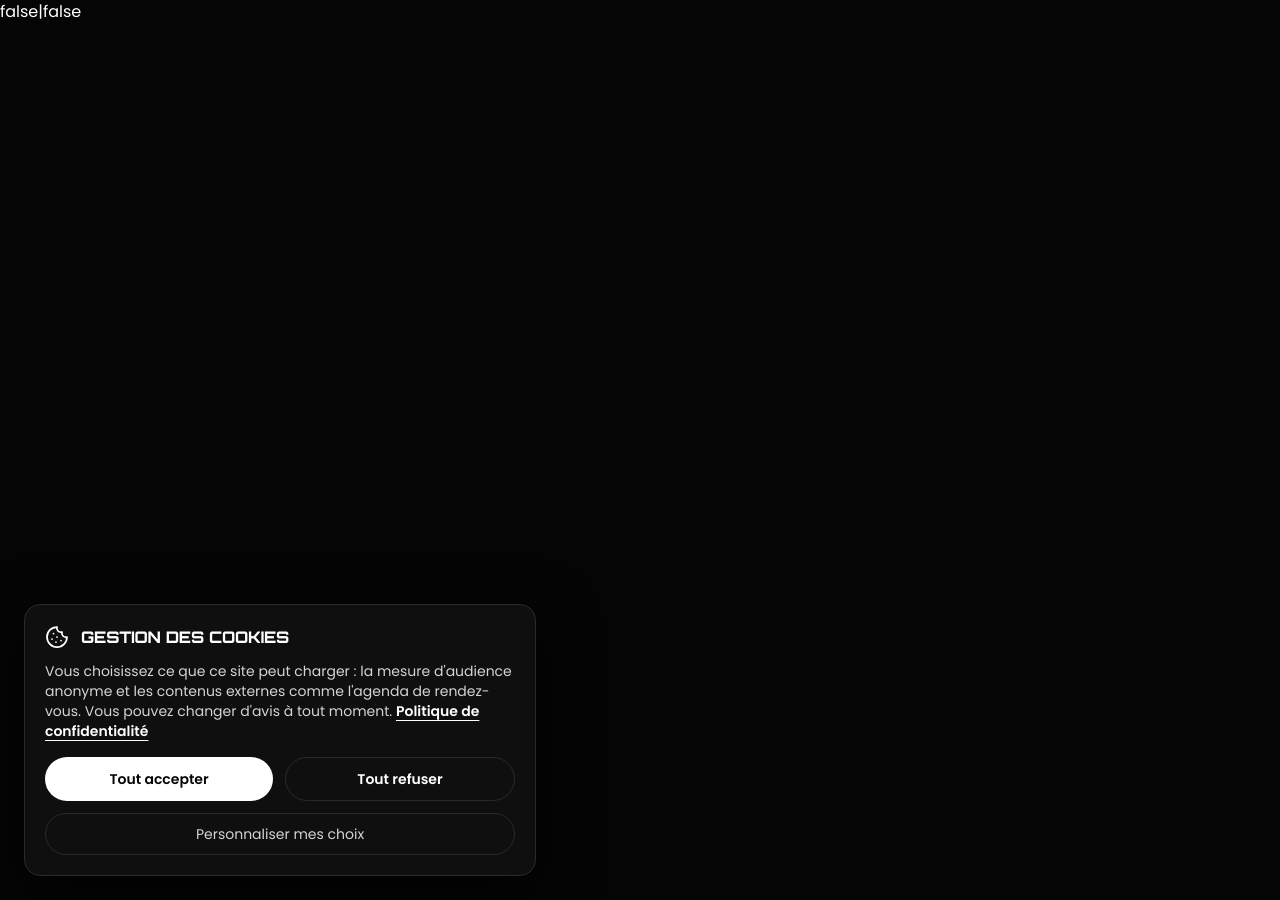
Test: CookieBanner › enables every category and disappears when accepting all
The image size is (1280, 900).
Click the button "Tout accepter". click: (159, 779)
box: [45,757,273,801]
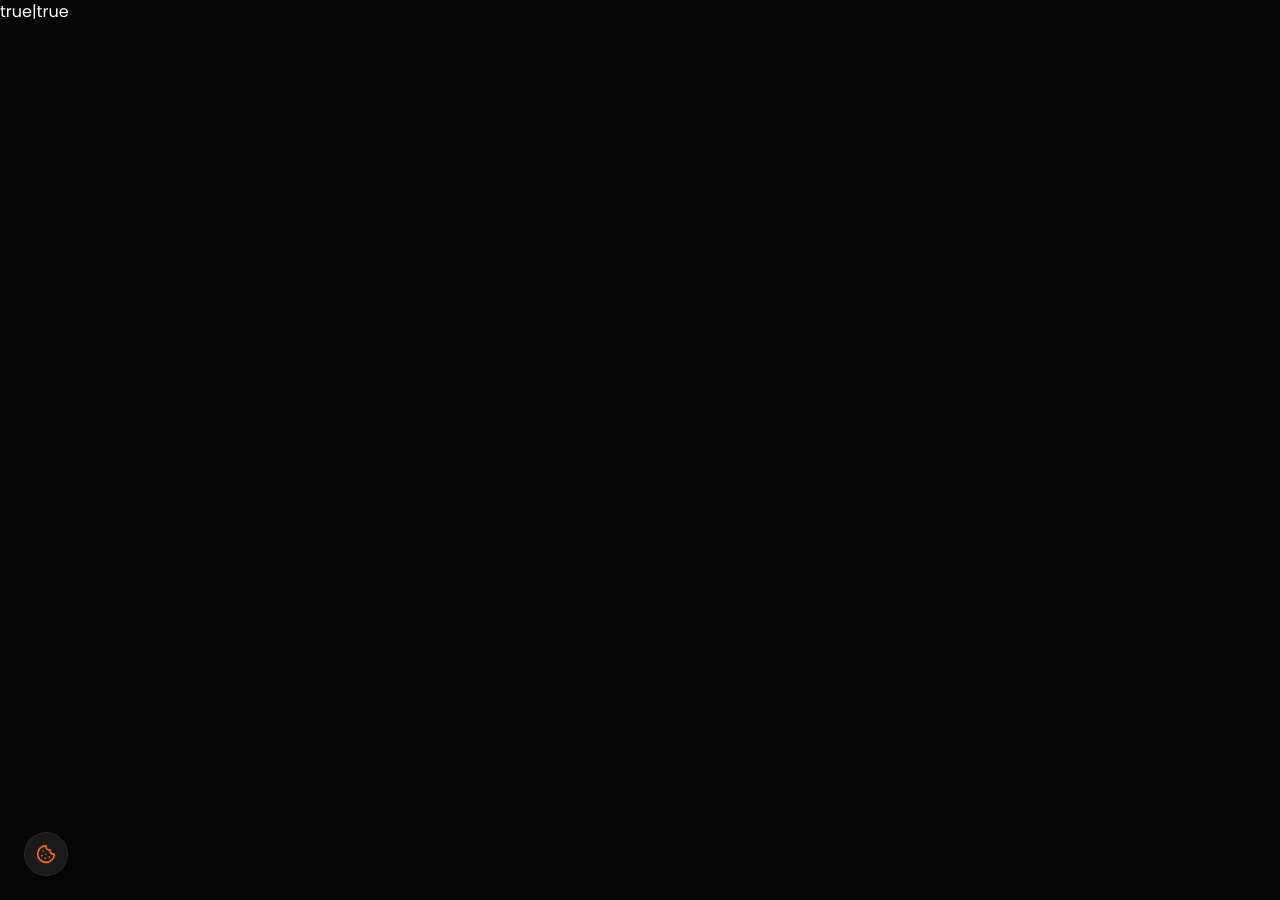
Expected: the dialog is gone
Expected: the text with test id "probe" reads "true|true", [0,0,69,23]
